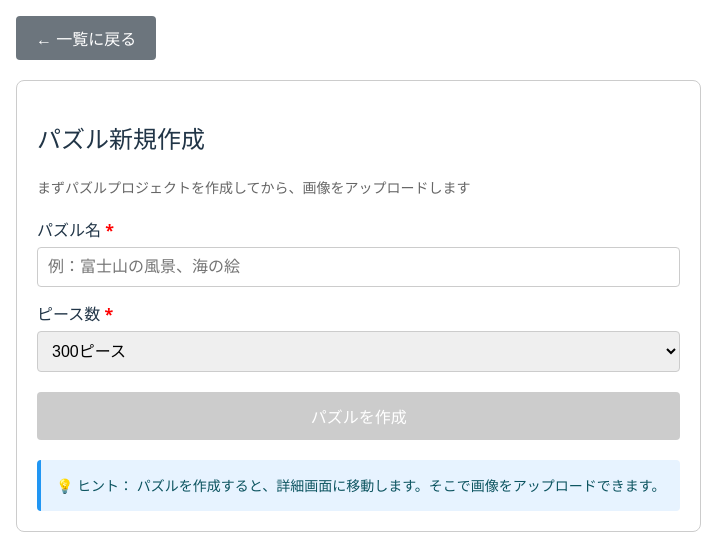
PuzzleCreate › パズル名が入力されると作成ボタンが有効化される
This screenshot has width=718, height=549.
Expected: the button "パズルを作成" is disabled, [37, 392, 680, 440]
Type "テストパズル" into the field with placeholder "例：富士山の風景、海の絵" at (359, 267), box [37, 247, 680, 287]
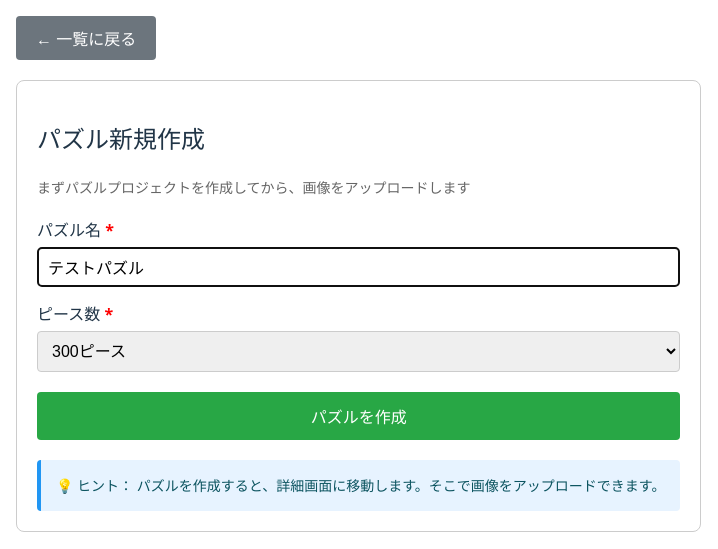
Now the button "パズルを作成" is enabled, box [37, 392, 680, 440]
